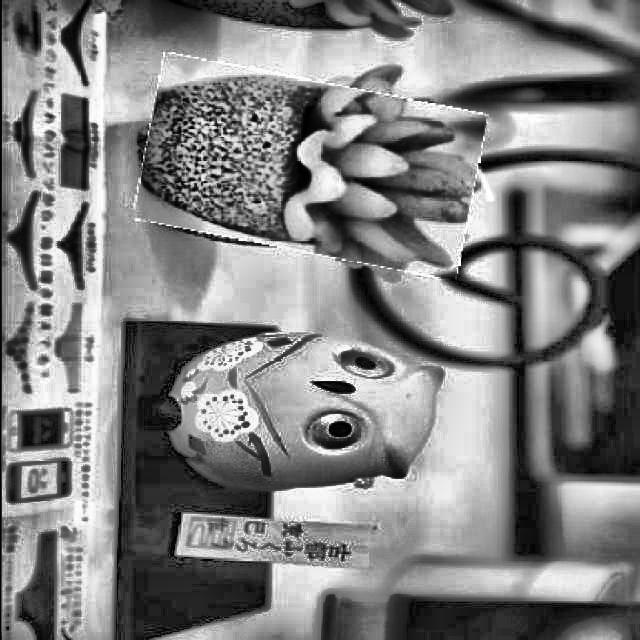plants: (138, 68, 480, 266)
